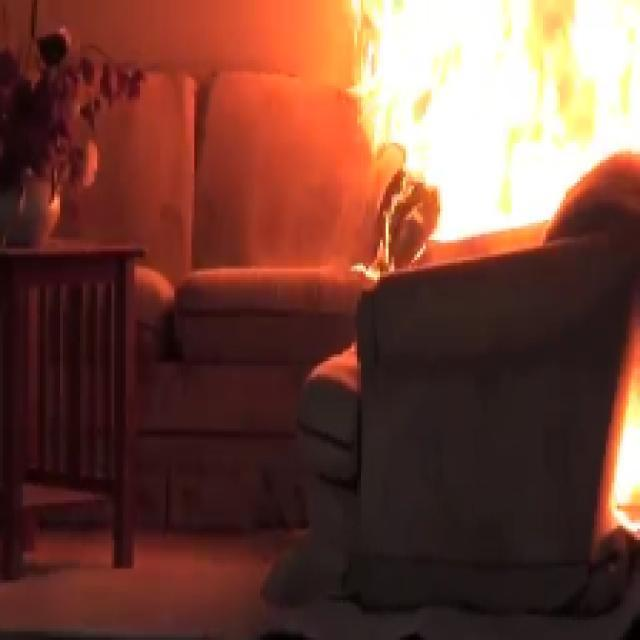Fire: (317, 0, 640, 312)
